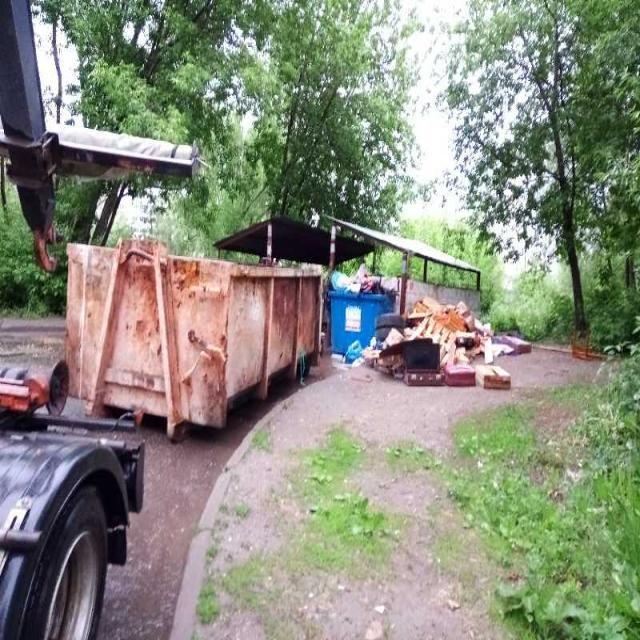Dumpster: (65, 242, 321, 432)
